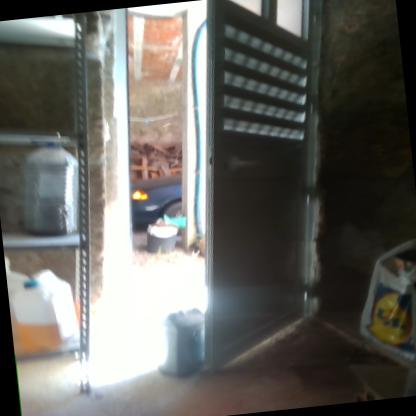semi: (97, 0, 353, 393)
